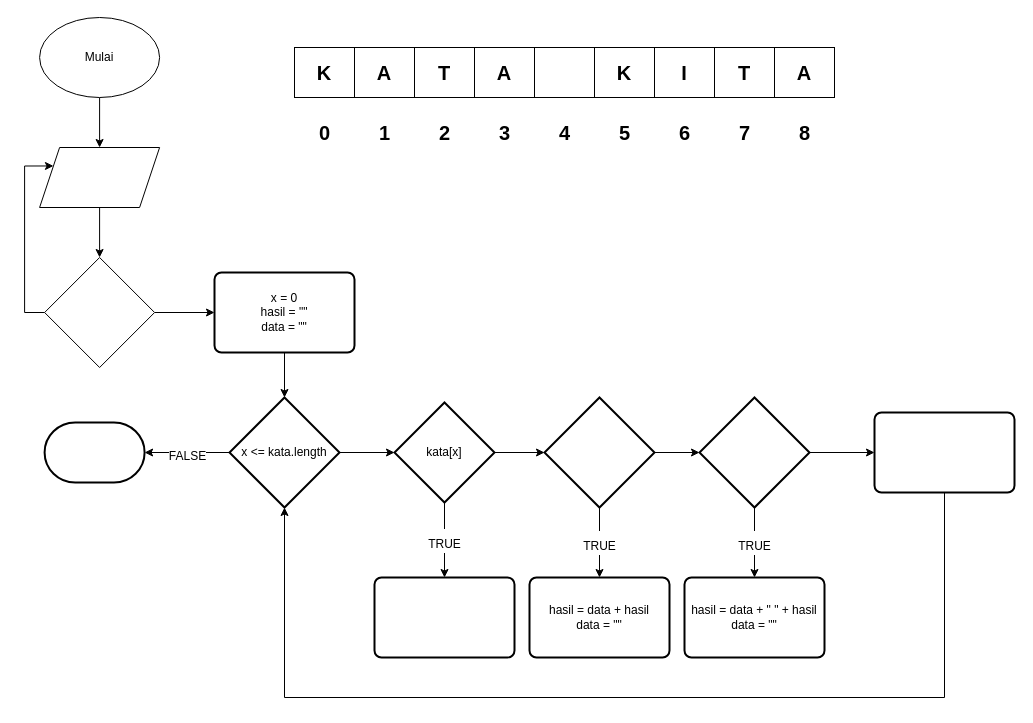
Image size: 1033x723. Some labels were removed from this diagram. Here are the shapes that lost their labels. From the top down, the box of each, then its label:
(39, 146, 160, 208): Kata
(44, 256, 155, 368): kata == string
(43, 421, 145, 483): SELESAI
(543, 396, 655, 508): kata[x] = " "
(698, 396, 810, 508): x == kata.length
(873, 411, 1015, 493): x = x + 1
(373, 576, 515, 658): data = data + kata[x]
